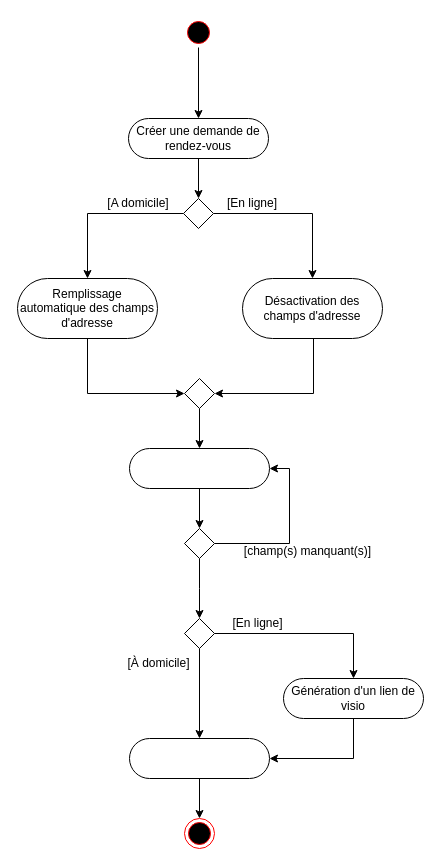
The diagram is 441 pixels wide and 866 high, and some of its shapes have lost their labels. Here are the shapes that lost their labels. From the top down, the centre of each, then its label:
pixel 199 468: Remplir les champs de formulaire
pixel 199 758: Confirmation de prise de rendez-vous
